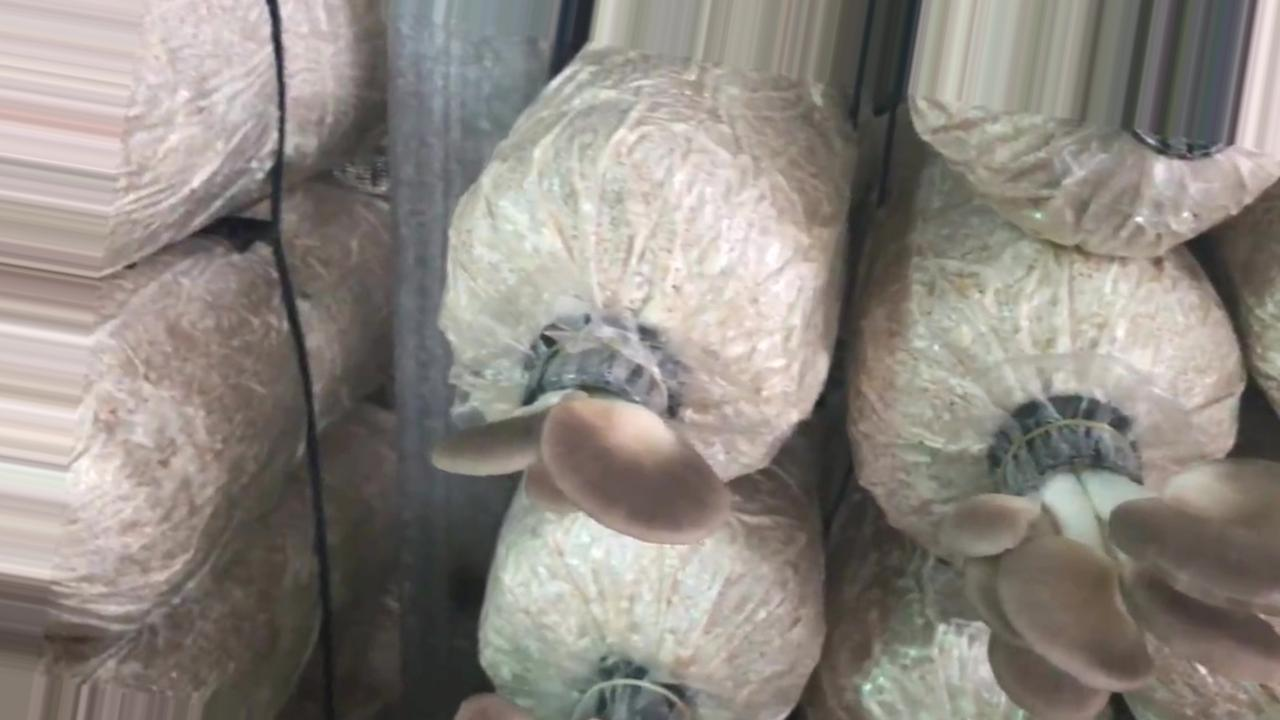nam: (953, 398, 1278, 720), (427, 330, 732, 552)
